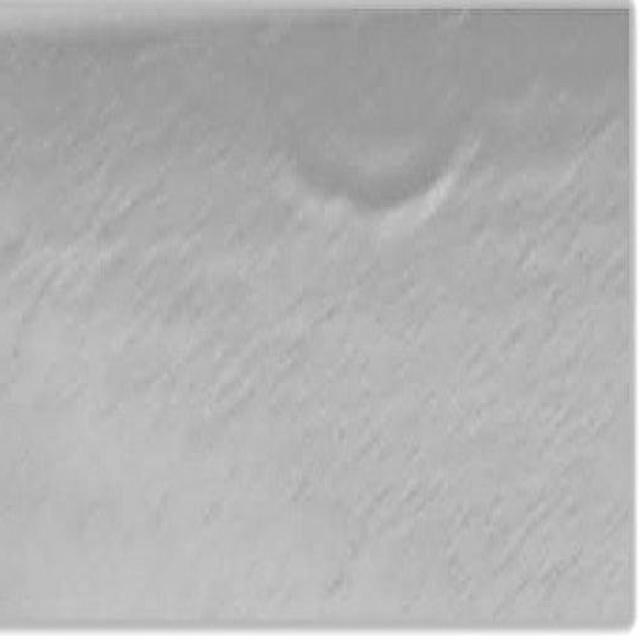paint drips: (231, 87, 495, 323)
